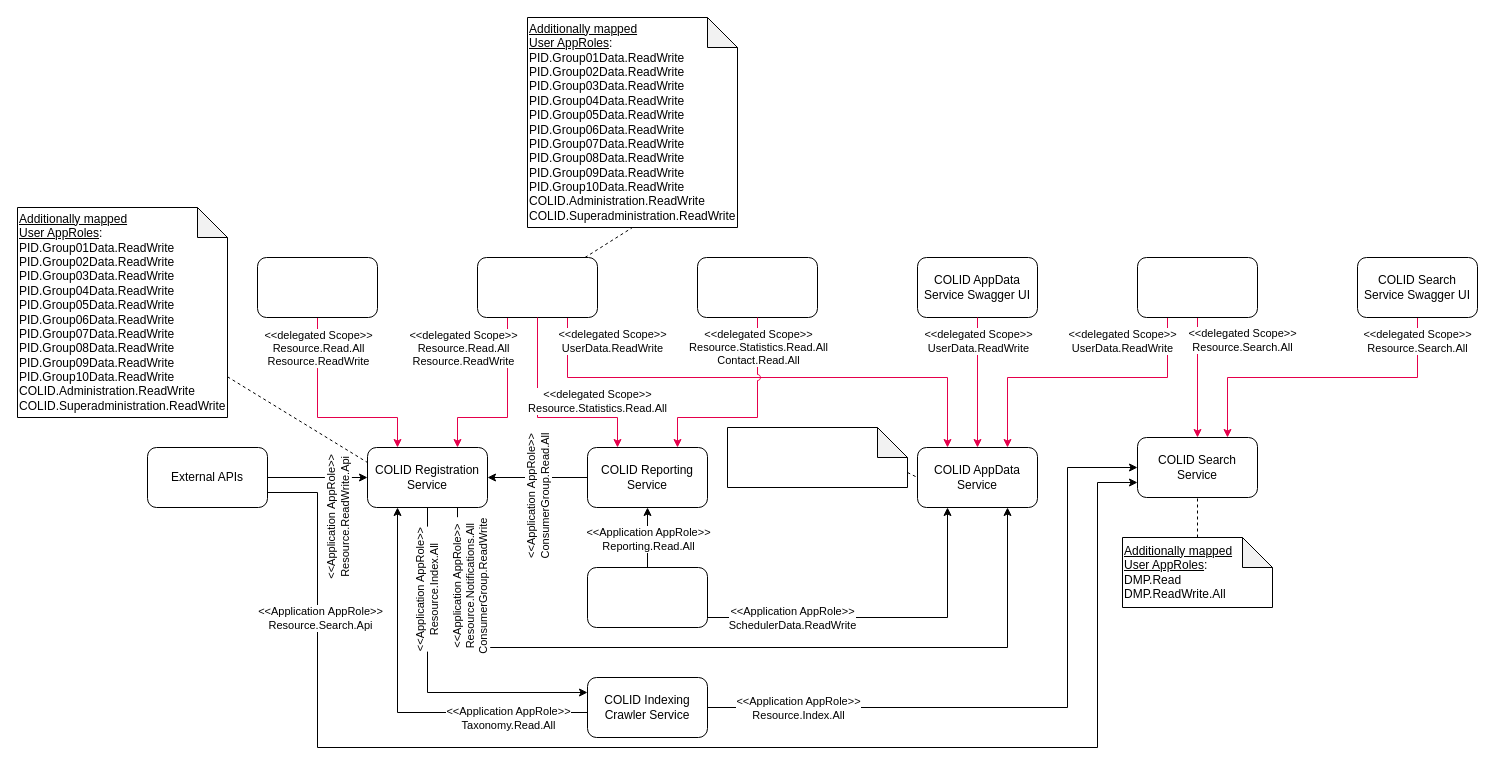
This 1495x773 diagram has some shape labels left out. The centre of each missing label's shape, as x and y in pixels:
"Additionally mapped User AppRoles : COLID.Administration.ReadWrite" belongs at (x=817, y=457).
"COLID Data Marketplace UI" belongs at (x=1197, y=287).
"COLID Editor UI" belongs at (x=537, y=287).
"COLID Registration Service Swagger UI" belongs at (x=317, y=287).
"COLID Reporting Service Swagger UI" belongs at (x=757, y=287).
"COLID Scheduler Service" belongs at (x=647, y=597).
